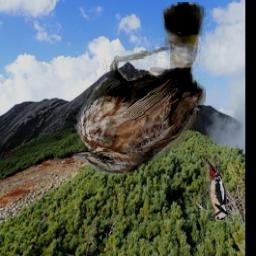Sparrow: (72, 2, 205, 175)
Woodpecker: (200, 159, 226, 221)
